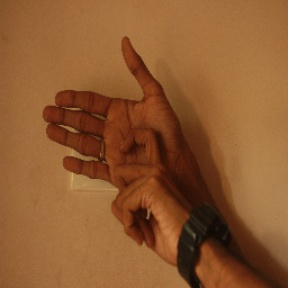R: (39, 33, 186, 245)
